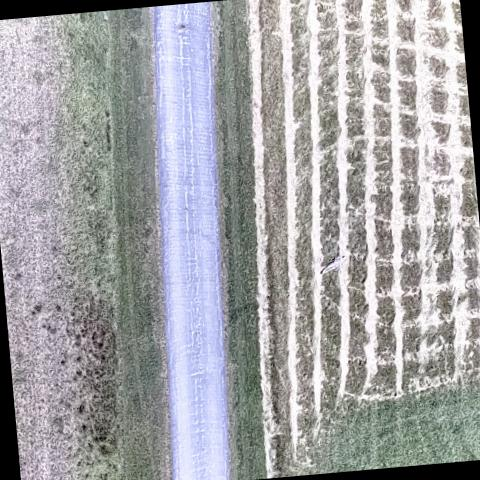person: (317, 252, 349, 278)
